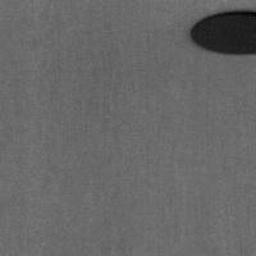Punching: (191, 12, 256, 54)
